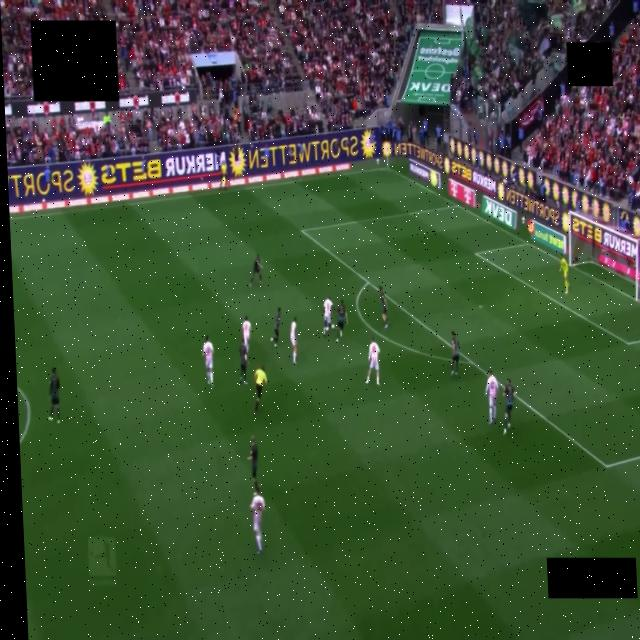player: (249, 482, 265, 554), (484, 370, 498, 425), (503, 378, 515, 435), (365, 337, 379, 385), (48, 368, 59, 423), (202, 336, 213, 386), (335, 300, 347, 342), (247, 436, 257, 481), (378, 286, 388, 328), (322, 297, 333, 335), (238, 340, 247, 384), (450, 331, 459, 375), (270, 308, 280, 347), (249, 255, 261, 287), (241, 316, 251, 353), (559, 254, 568, 294), (290, 317, 297, 364), (219, 163, 226, 190)
referee: (254, 366, 266, 413)
